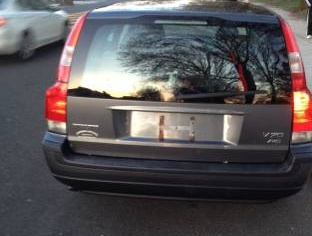volvo: (10, 3, 312, 211)
